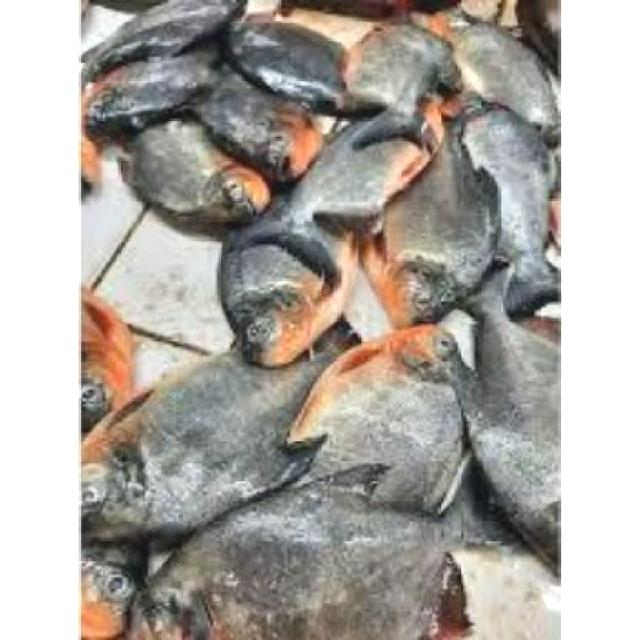ikan-pacu: (138, 486, 471, 640), (81, 350, 297, 516), (293, 321, 467, 504), (376, 122, 492, 330), (218, 202, 360, 367), (116, 117, 275, 226), (210, 82, 335, 190)
